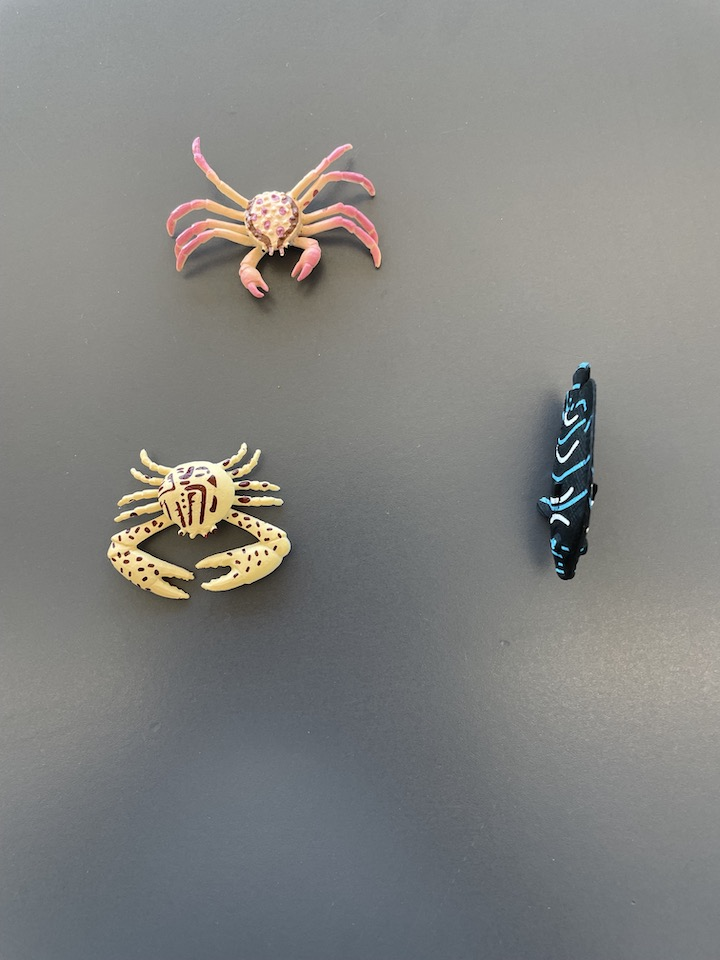crab: (159, 133, 391, 303), (99, 438, 295, 605)
fish: (537, 358, 605, 582)
